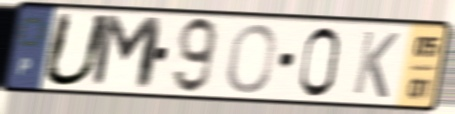0: (296, 25, 343, 100)
9: (171, 15, 221, 97)
K: (349, 27, 402, 101)
M: (87, 12, 167, 94)
O: (224, 22, 279, 96)
U: (38, 10, 115, 90)
